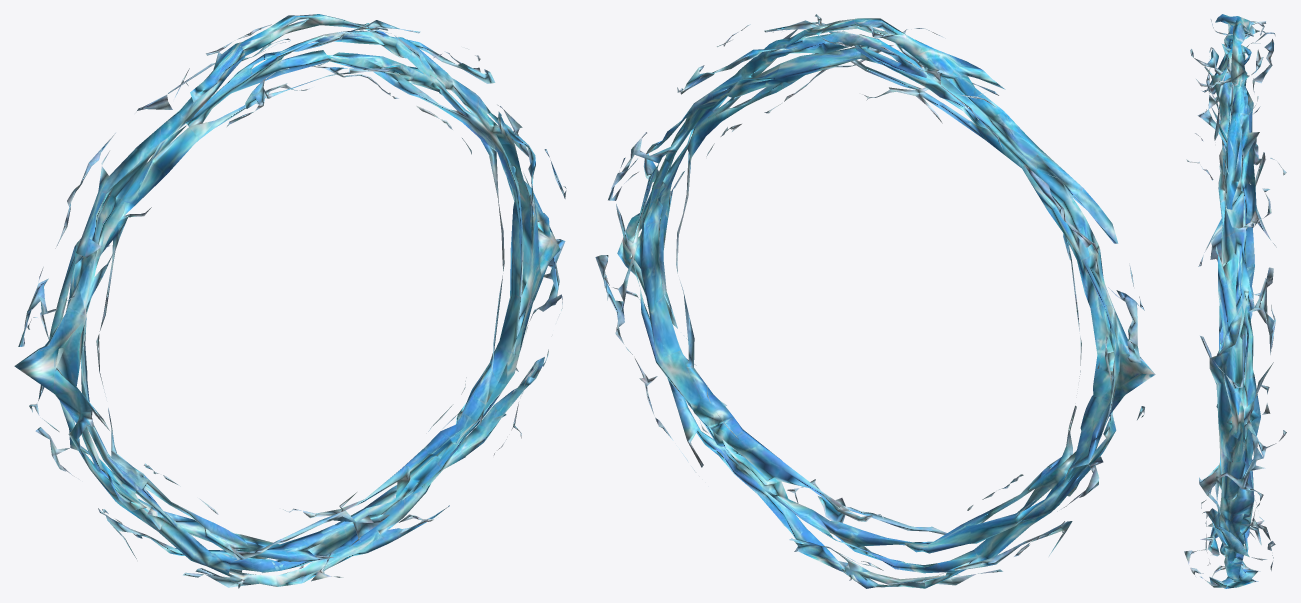
The model's file is surge_aura.glb.
3 renders of one model, left to right at view 1: azimuth 30°, elevation 25°; view 2: azimuth 150°, elevation 25°; view 3: azimuth 270°, elevation 25°, orthographic. The views are drawn at different scales.
Bounding box in the file's own units: 1.84 × 1.8 × 0.3081.
Materials: 1 (1 with a texture image).
